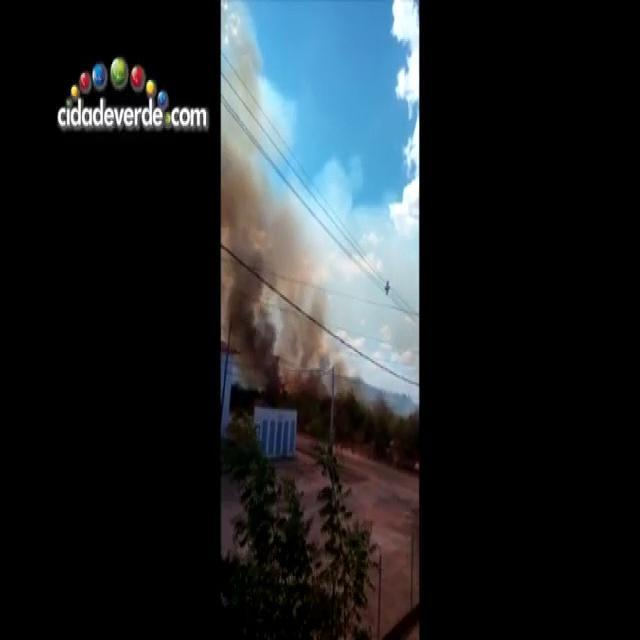Smoke: (227, 36, 343, 392)
